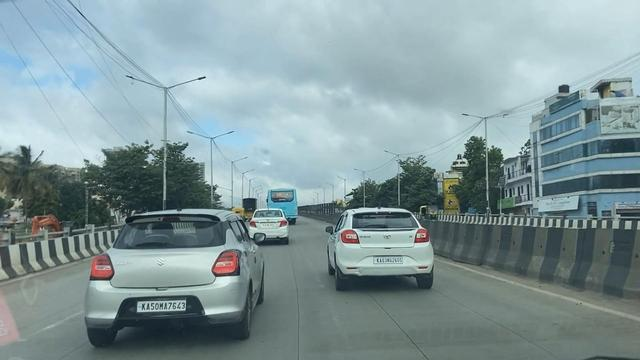HMV: (259, 169, 302, 224)
LMV: (69, 178, 271, 351), (323, 200, 433, 291), (239, 195, 292, 247)
